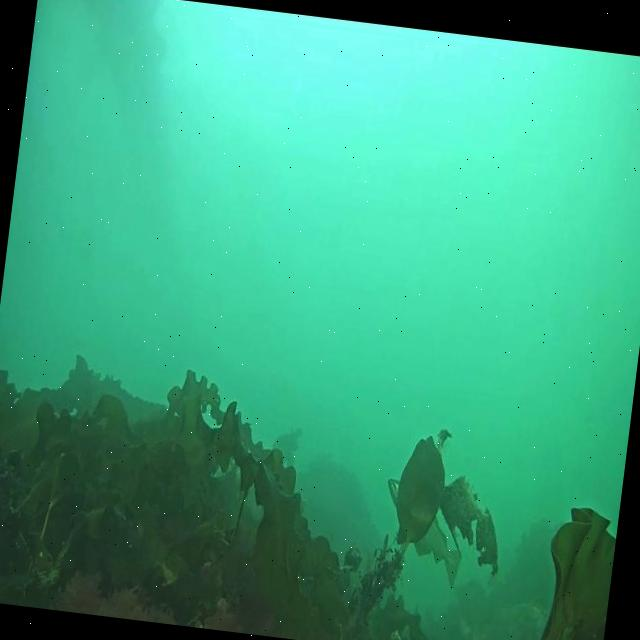fish: (370, 468, 470, 580)
